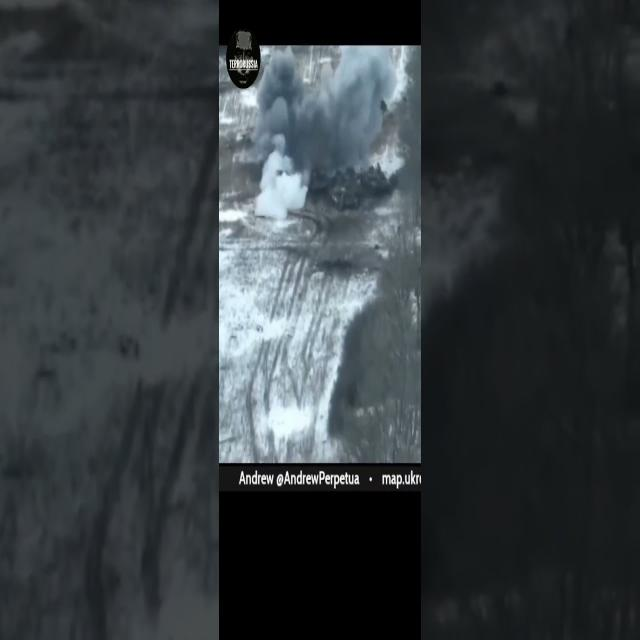tank: (297, 166, 329, 194), (360, 169, 392, 195), (328, 188, 358, 208)
